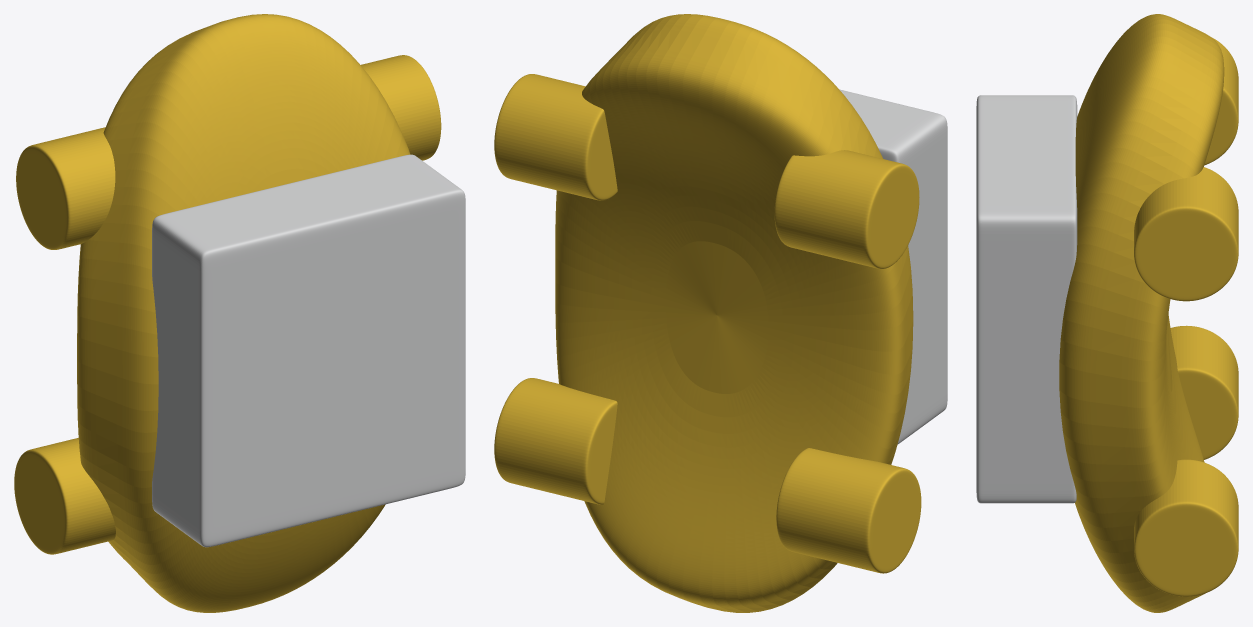
File: 17_f1_car.glb
The picture shows the model from 3 angles, left to right: view 1: azimuth 30°, elevation 25°; view 2: azimuth 150°, elevation 25°; view 3: azimuth 270°, elevation 25°; orthographic projection. The views are drawn at different scales.
Visible parts, largest first — view 1: superquadric_1, superquadric_0, superquadric_3, superquadric_2, superquadric_5; view 2: superquadric_0, superquadric_2, superquadric_1, superquadric_3, superquadric_4, superquadric_5; view 3: superquadric_0, superquadric_1, superquadric_5, superquadric_4, superquadric_2, superquadric_3.
Part boxes in pixels (x1,y1,x2,y2): superquadric_1: (152, 154, 465, 547); superquadric_0: (77, 14, 410, 612); superquadric_3: (16, 127, 115, 249); superquadric_2: (14, 438, 115, 554); superquadric_5: (361, 55, 441, 160); superquadric_0: (555, 14, 913, 612); superquadric_2: (776, 448, 921, 573); superquadric_1: (839, 89, 947, 444); superquadric_3: (774, 150, 919, 268); superquadric_4: (494, 378, 617, 504); superquadric_5: (494, 74, 617, 200); superquadric_0: (1059, 14, 1224, 612); superquadric_1: (976, 95, 1077, 503); superquadric_5: (1134, 167, 1238, 301); superquadric_4: (1134, 459, 1238, 596); superquadric_2: (1170, 325, 1238, 459); superquadric_3: (1204, 37, 1238, 165).
Size of the model in its own units: 0.6693 by 1 by 0.4167.
